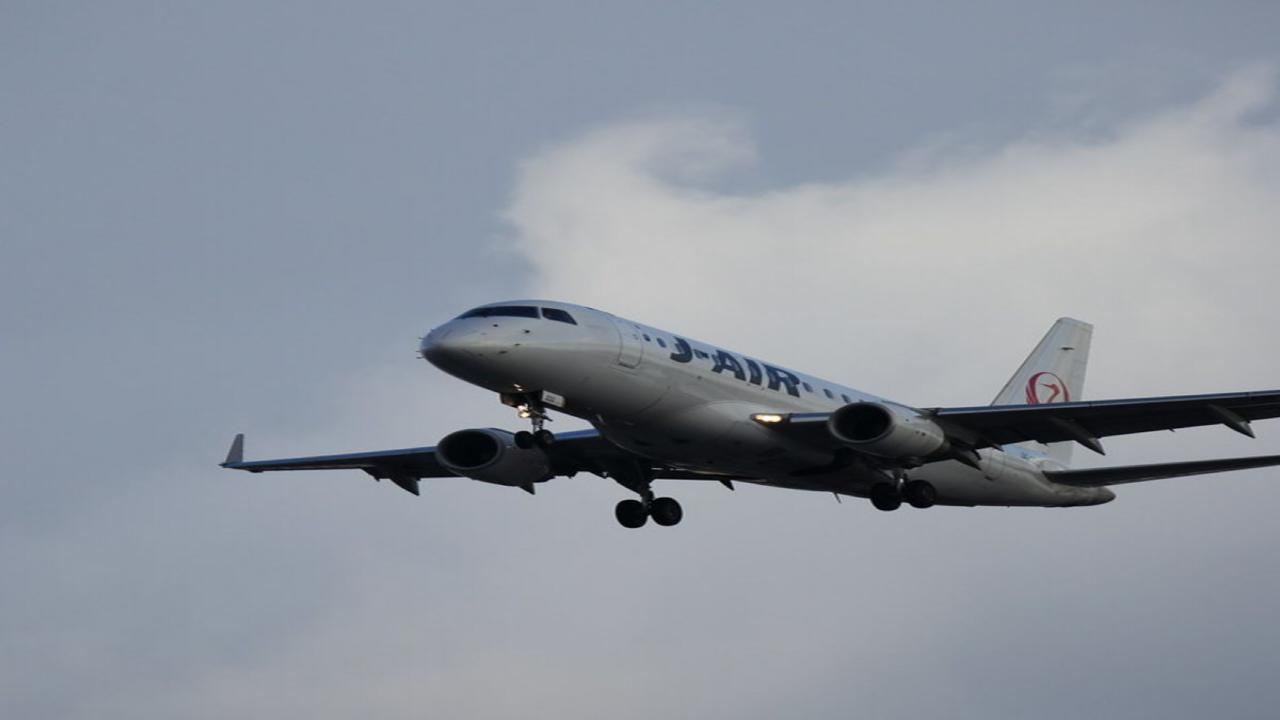Airplane: (204, 282, 1280, 542)
